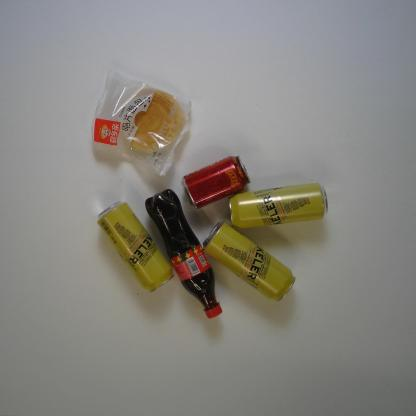Alcohol: (200, 219, 298, 307), (93, 200, 172, 297), (228, 180, 330, 233)
Dessert: (89, 61, 194, 178)
Drink: (144, 185, 224, 320), (178, 153, 253, 211)
